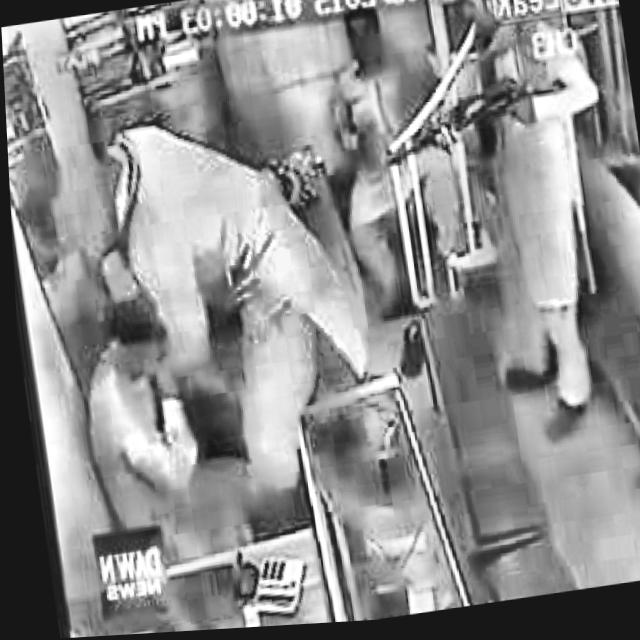robbery: (53, 84, 388, 531), (350, 0, 640, 468)
